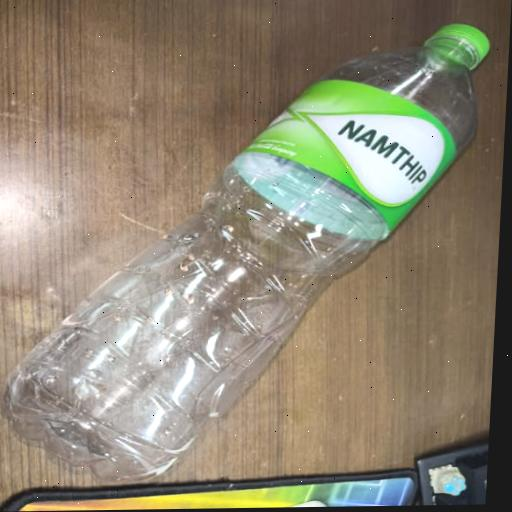ba: (0, 10, 510, 485)
